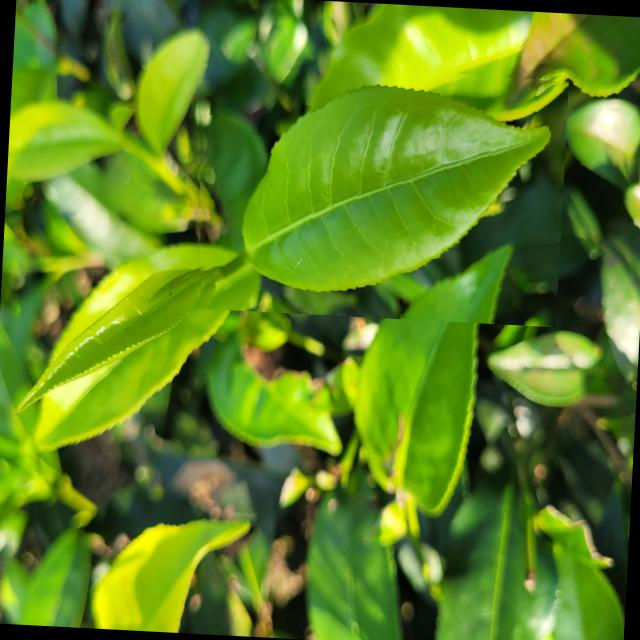Category B(2-4 days): (186, 54, 570, 326)
